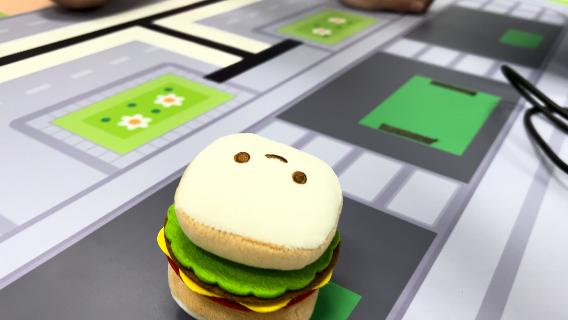sandwich: (158, 130, 346, 318)
